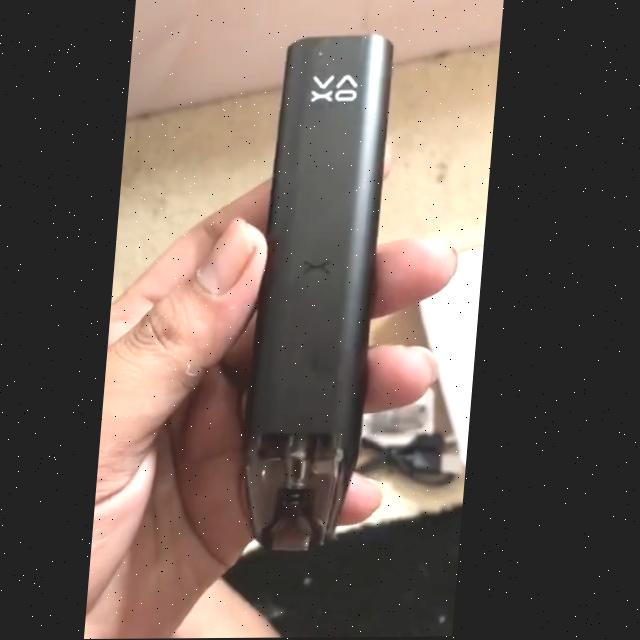vape: (241, 36, 397, 558)
